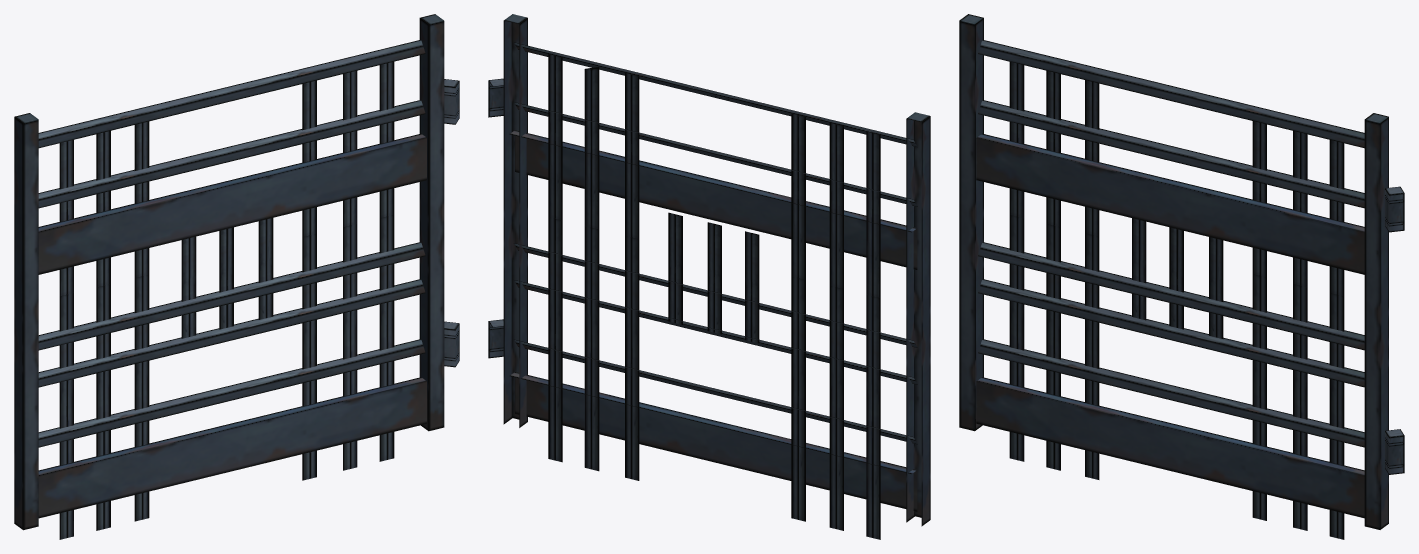
Rendered from 2_WGJ_JianYuMen_02.FBX.
The picture shows the model from 3 angles, left to right: view 1: azimuth 30°, elevation 25°; view 2: azimuth 150°, elevation 25°; view 3: azimuth 330°, elevation 25°; orthographic projection.
Visible parts, largest first — view 1: 2_WGJ_JianYuMen_02; view 2: 2_WGJ_JianYuMen_02; view 3: 2_WGJ_JianYuMen_02.
Part boxes in pixels (x1,y1,x2,y2): 2_WGJ_JianYuMen_02: [14, 14, 459, 539]; 2_WGJ_JianYuMen_02: [488, 14, 930, 539]; 2_WGJ_JianYuMen_02: [959, 14, 1404, 539].
Size of the model in its own units: 426 by 400 by 18.95.
